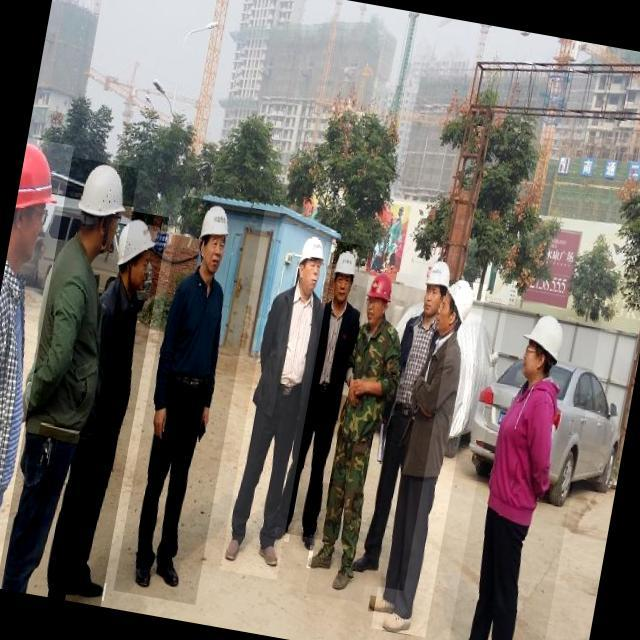Helmet: (15, 144, 68, 218), (76, 160, 132, 221), (516, 312, 568, 367), (114, 218, 160, 272), (442, 277, 479, 327), (200, 204, 236, 245), (297, 233, 329, 271), (368, 273, 398, 304), (424, 258, 454, 289), (331, 252, 359, 285)
Human: (114, 196, 266, 605), (0, 154, 138, 599), (443, 297, 602, 640), (46, 208, 169, 607), (220, 223, 338, 580), (371, 275, 487, 637), (306, 266, 421, 603), (355, 254, 461, 591), (0, 137, 73, 586), (279, 240, 374, 541)
Safety Boot: (66, 577, 107, 601), (154, 560, 185, 590), (381, 610, 414, 636), (332, 559, 357, 593), (306, 545, 337, 572), (353, 550, 382, 575), (256, 541, 282, 567), (134, 560, 157, 589), (368, 595, 398, 616), (298, 530, 318, 553), (224, 537, 242, 562), (271, 523, 291, 542)
